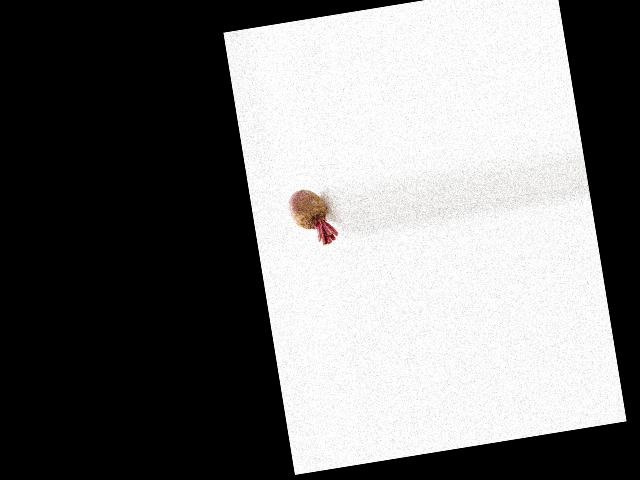beet: (286, 184, 340, 249)
